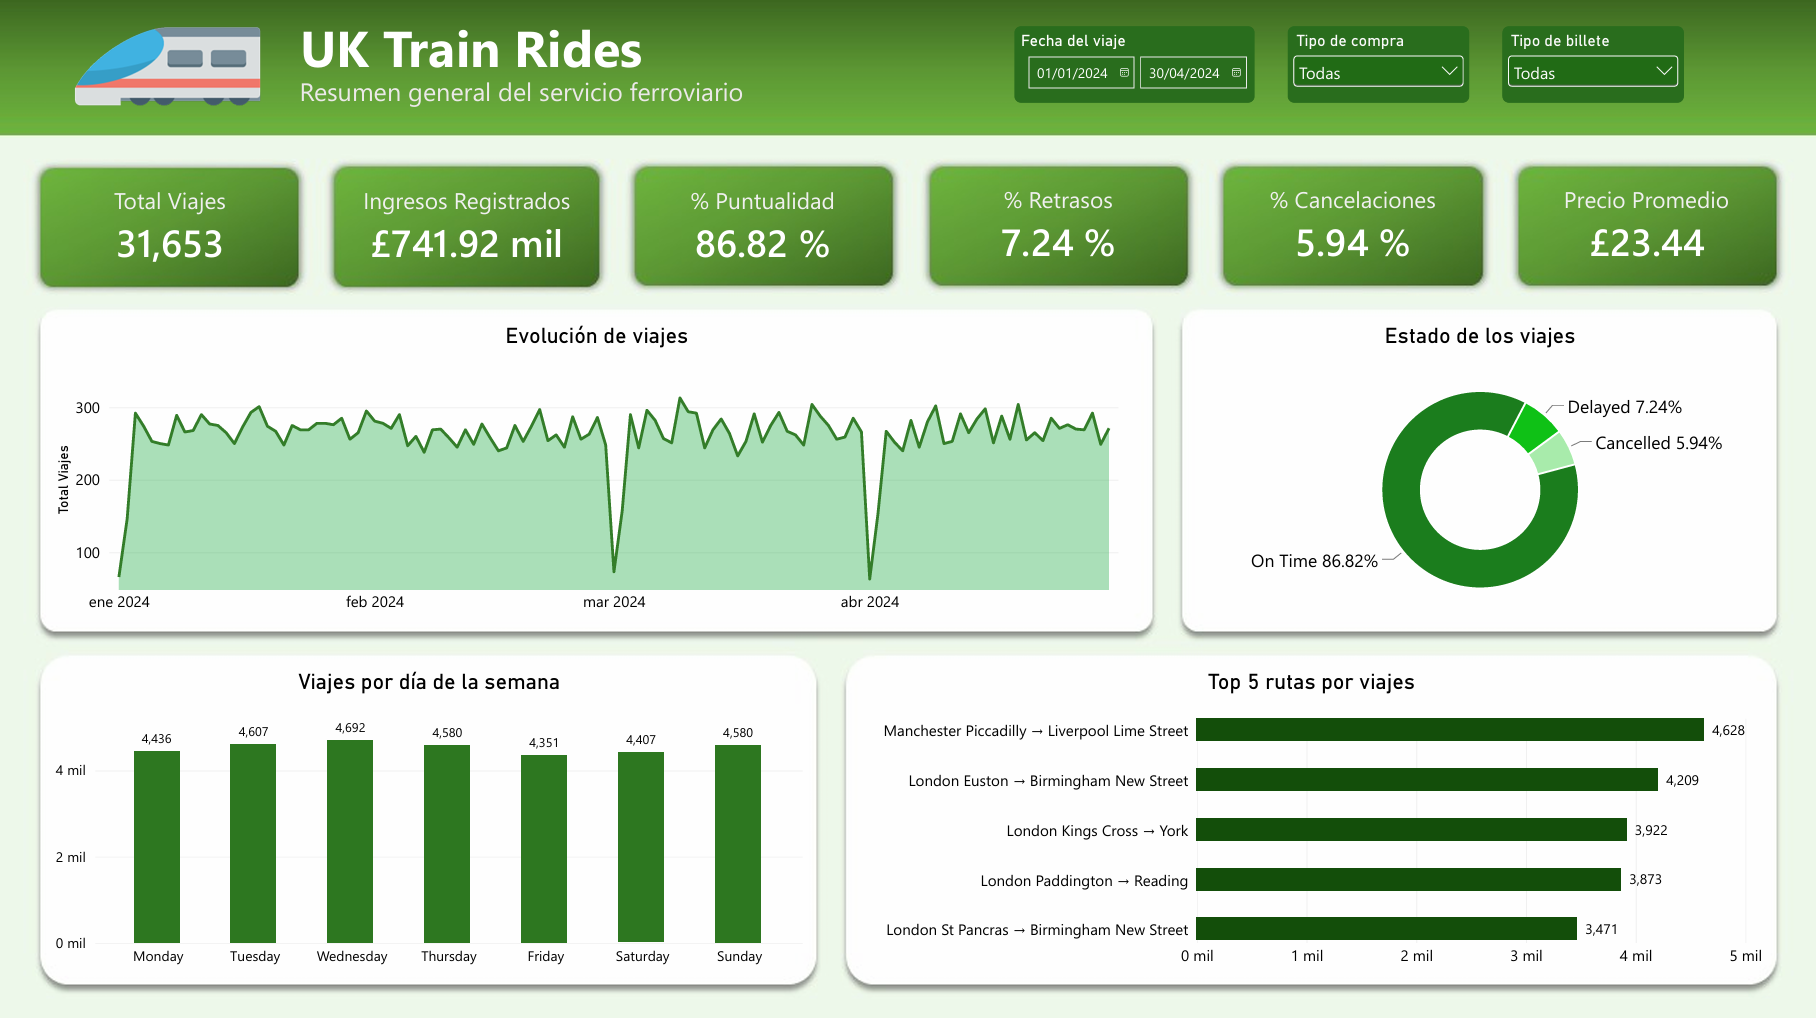

Layout of this report page (visuals, bound fields, positions):
{"tool":"powerbi","page":{"name":"Página 1","canvas":[1920,1080],"ordinal":0},"visuals":[{"type":"cardVisual","fields":{"Data":["public railway.Ingresos Registrados"]},"box":[352.8,174.9,280,127.2],"z":0},{"type":"cardVisual","fields":{"Data":["public railway.% Puntualidad"]},"box":[670.4,174.9,272.5,127.2],"z":1000},{"type":"cardVisual","fields":{"Data":["public railway.Precio Promedio"]},"box":[1605.1,174.9,271.6,124.8],"z":2000},{"type":"cardVisual","fields":{"Data":["public railway.% Cancelaciones"]},"box":[1292.8,174.9,274,124.8],"z":3000},{"type":"textbox","box":[316.2,12.2,409.5,81.1],"z":4000},{"type":"image","box":[77.1,0,198.5,138.5],"z":5000},{"type":"cardVisual","fields":{"Data":["public railway.Total Viajes"]},"box":[41.8,174.9,274,127.2],"z":6000},{"type":"cardVisual","fields":{"Data":["public railway.% Retrasos"]},"box":[983,174.9,271.6,124.8],"z":7000},{"type":"areaChart","title":"Evolución de viajes","fields":{"Category":["public railway.Date of Journey.Variación.Jerarquía de fechas.Año","public railway.Date of Journey.Variación.Jerarquía de fechas.Mes","public railway.Date of Journey.Variación.Jerarquía de fechas.Día"],"Y":["public railway.Total Viajes"]},"box":[41.8,326.7,1177.4,341.1],"z":8000},{"type":"barChart","title":"Top 5 rutas por viajes","fields":{"Category":["public railway.Route"],"Y":["public railway.Total Viajes"]},"box":[892.5,692.5,986.3,349.7],"z":9000},{"type":"donutChart","title":"Estado de los viajes","fields":{"Category":["public railway.Journey Status"],"Y":["public railway.Total Viajes"]},"box":[1249.6,326.8,629.5,341.1],"z":10000},{"type":"textbox","box":[315.9,77.4,520.7,46.3],"z":11000},{"type":"columnChart","title":"Viajes por día de la semana","fields":{"Category":["public railway.Day of Week"],"Y":["public railway.Total Viajes"]},"box":[41.6,692.5,822.4,349.7],"z":12000},{"type":"slicer","fields":{"Values":["public railway.Ticket Type"]},"box":[1588.1,26.9,191.8,81.3],"z":13000},{"type":"slicer","fields":{"Values":["public railway.Purchase Type"]},"box":[1361.1,26.9,191.8,81.3],"z":14000},{"type":"slicer","title":"      Fecha del viaje","fields":{"Values":["public railway.Date of Journey"]},"box":[1071.6,26.9,254.3,81.4],"z":15000}]}

Visuals, with their boxes in screenshot pixels (x1, y1, x2, y2), scaled from the page's 1920x1080 canvas onto the 1816x1018 screenshot:
cardVisual - public railway.Ingresos Registrados: box(334, 165, 599, 285)
cardVisual - public railway.% Puntualidad: box(634, 165, 892, 285)
cardVisual - public railway.Precio Promedio: box(1518, 165, 1775, 282)
cardVisual - public railway.% Cancelaciones: box(1223, 165, 1482, 282)
textbox: box(299, 11, 686, 88)
image: box(73, 0, 261, 131)
cardVisual - public railway.Total Viajes: box(40, 165, 299, 285)
cardVisual - public railway.% Retrasos: box(930, 165, 1187, 282)
"Evolución de viajes" areaChart: box(40, 308, 1153, 629)
"Top 5 rutas por viajes" barChart: box(844, 653, 1777, 982)
"Estado de los viajes" donutChart: box(1182, 308, 1777, 630)
textbox: box(299, 73, 791, 117)
"Viajes por día de la semana" columnChart: box(39, 653, 817, 982)
slicer - public railway.Ticket Type: box(1502, 25, 1683, 102)
slicer - public railway.Purchase Type: box(1287, 25, 1469, 102)
"      Fecha del viaje" slicer: box(1014, 25, 1254, 102)
